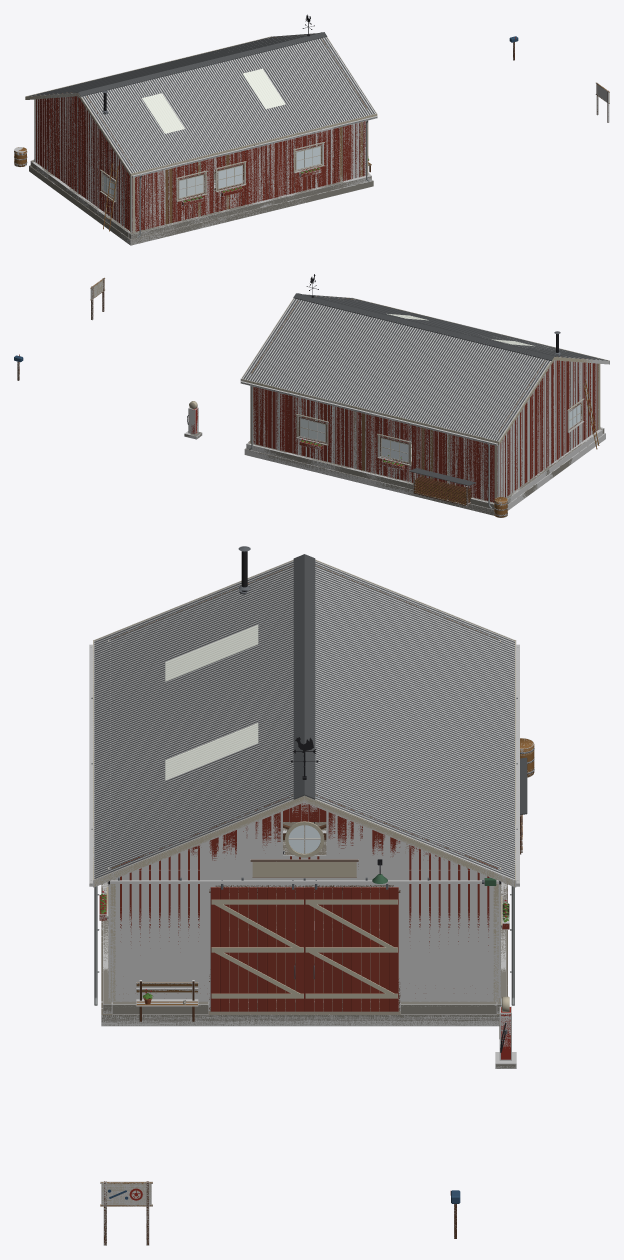
File: garage.glb
3 renders of one model, top to bottom at view 1: azimuth 30°, elevation 25°; view 2: azimuth 150°, elevation 25°; view 3: azimuth 270°, elevation 25°, orthographic. The views are drawn at different scales.
Visible parts, largest first — view 1: S_shadow, S_bld, S_bld2, S_skylight, S_prop, S_win_glass; view 2: S_shadow, S_bld2, S_bld, S_prop, S_win_glass; view 3: S_shadow, S_bld2, S_bld, DOOR_R|bld, DOOR_L|bld, S_prop, S_skylight, S_floor.
Boxes of the visible parts, bbox=[...] form: S_shadow: bbox=[14, 33, 609, 245]; S_bld: bbox=[25, 33, 377, 245]; S_bld2: bbox=[29, 32, 375, 173]; S_skylight: bbox=[142, 69, 285, 133]; S_prop: bbox=[14, 14, 609, 237]; S_win_glass: bbox=[103, 146, 320, 197]; S_shadow: bbox=[17, 277, 609, 517]; S_bld2: bbox=[242, 293, 607, 485]; S_bld: bbox=[184, 294, 608, 515]; S_prop: bbox=[14, 274, 600, 517]; S_win_glass: bbox=[300, 405, 580, 461]; S_shadow: bbox=[89, 560, 534, 1245]; S_bld2: bbox=[94, 554, 527, 879]; S_bld: bbox=[93, 559, 515, 1068]; DOOR_R|bld: bbox=[210, 887, 304, 1011]; DOOR_L|bld: bbox=[304, 887, 398, 1011]; S_prop: bbox=[90, 546, 534, 1245]; S_skylight: bbox=[165, 625, 258, 780]; S_floor: bbox=[101, 822, 507, 1014].
Bounding box in the file's own units: 29.24 × 7.86 × 11.51.
